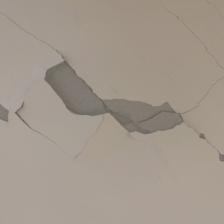Medium: (25, 35, 211, 149)
